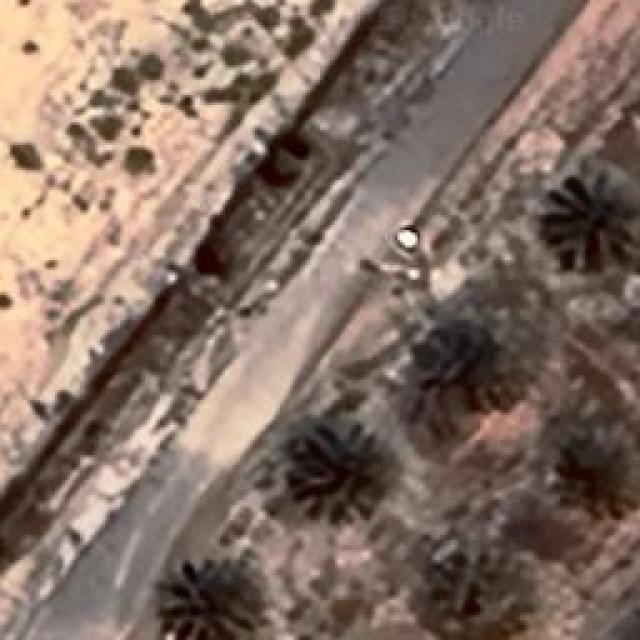PalmTree: (290, 420, 398, 522), (430, 310, 520, 418), (547, 162, 635, 268), (424, 544, 524, 632), (542, 428, 636, 520), (160, 552, 255, 638)
